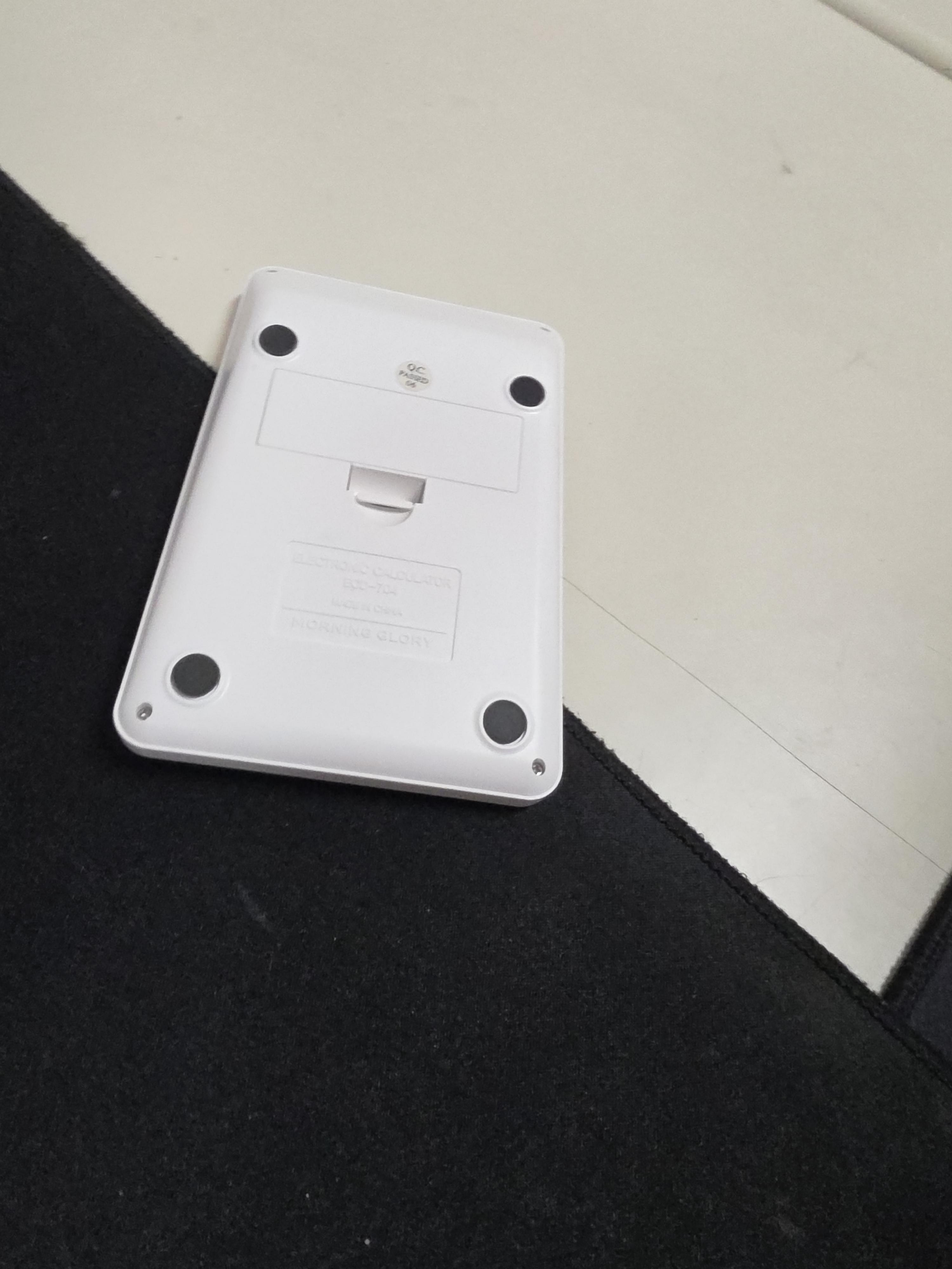calculator: (111, 266, 567, 808)
